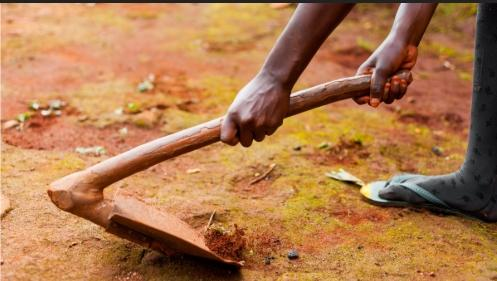HOUE: (15, 65, 417, 269)
